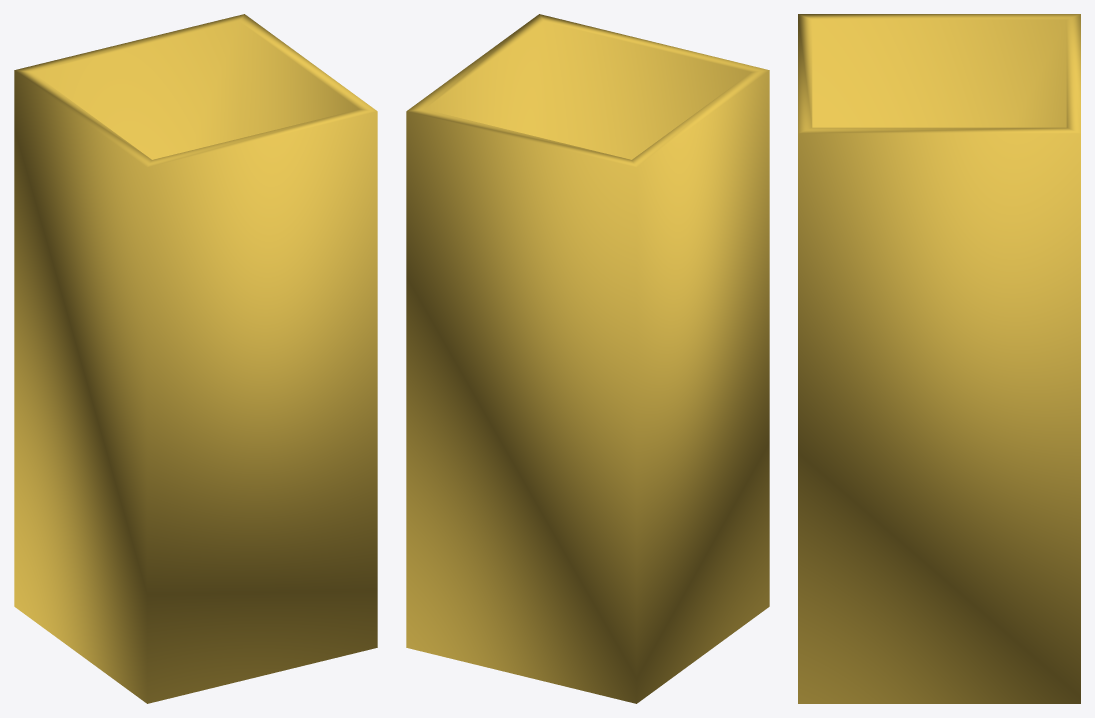
The model's file is Collection_10.fbx.
The picture shows the model from 3 angles, left to right: view 1: azimuth 30°, elevation 25°; view 2: azimuth 150°, elevation 25°; view 3: azimuth 270°, elevation 25°; orthographic projection. The views are drawn at different scales.
Parts seen in each view (by area): view 1: KitchenGlasses.010; view 2: KitchenGlasses.010; view 3: KitchenGlasses.010.
Boxes of the visible parts, x1,y1,x2,y2 form: KitchenGlasses.010: [14, 14, 377, 703]; KitchenGlasses.010: [406, 14, 769, 703]; KitchenGlasses.010: [798, 14, 1080, 703].
Bounding box in the file's own units: 0.0987 × 0.2195 × 0.0987.
